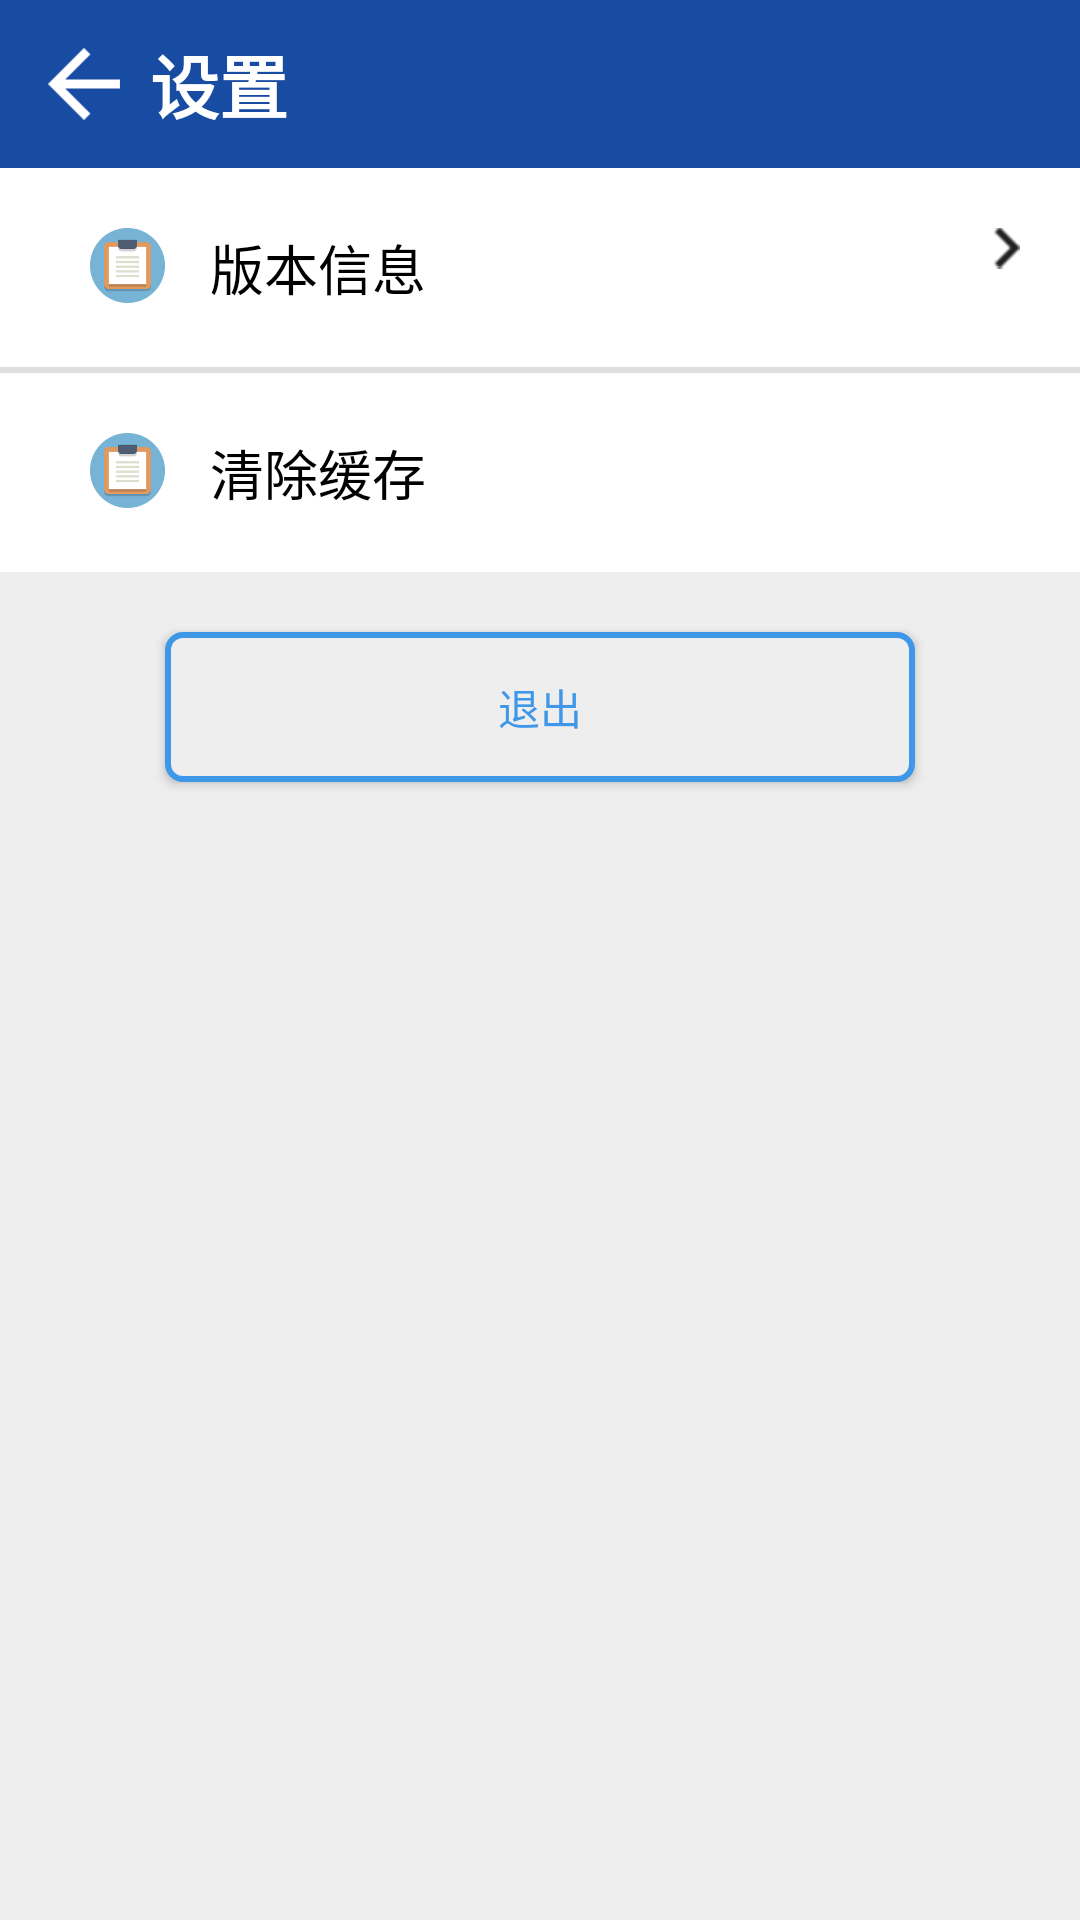

Where icons sit on this 1080 x 1920 app screen, as (x1, y1, x2, y2):
arrow back: (48, 48, 120, 120)
clipboard: (90, 228, 165, 303), (90, 433, 165, 508)
navigate next: (994, 228, 1020, 269)
